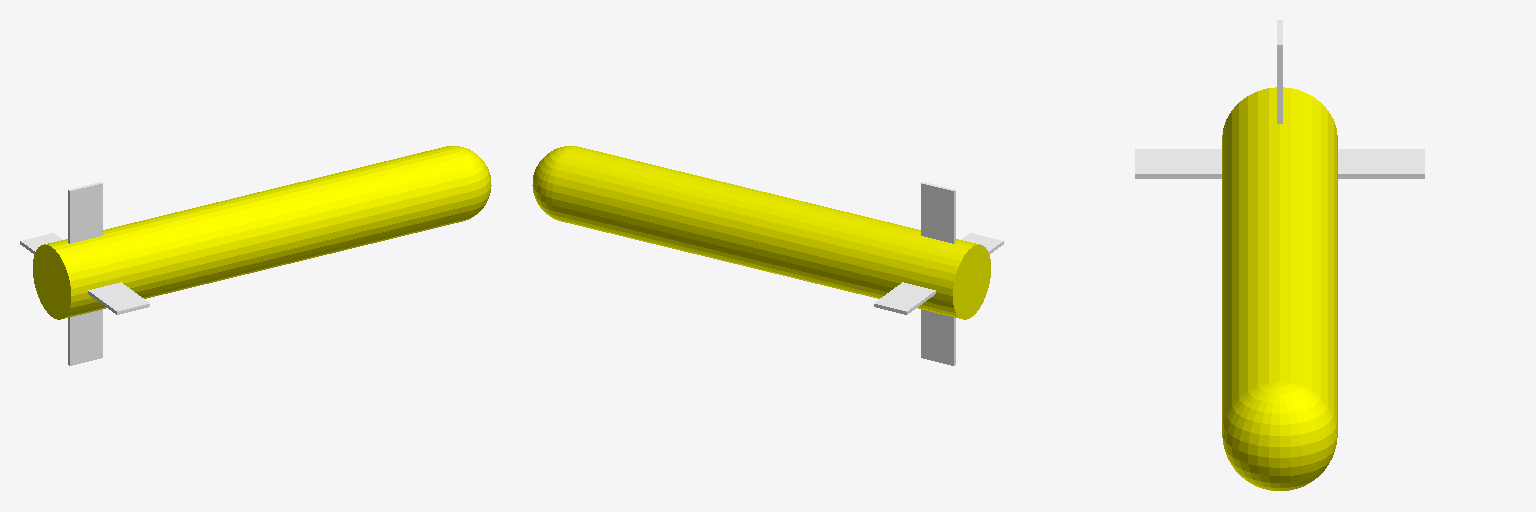
The robot description file, URDF, robot "remus100":
<?xml version="1.0"?>
<robot name="remus100">
  <link name="REMUS">
    <visual>
      <geometry>
        <cylinder length="1.2" radius="0.1"/>
      </geometry>
      <origin rpy="1.570796 0 1.570796" xyz="0 0 0"/>
      <material name="yellow">
        <color rgba="1 1 0 1"/>
      </material>
    </visual>
  </link>

  <link name="nose">
    <visual>
      <geometry>
        <sphere radius="0.1"/>
      </geometry>
      <origin rpy="0 0 0" xyz="0.6 0 0"/>
      <material name="yellow">
        <color rgba="1 1 0 1"/>
      </material>
    </visual>
  </link>
  
  <joint name="base_to_nose" type="fixed">
    <parent link="REMUS"/>
    <child link="nose"/>
    <origin xyz="0 0 0"/>
  </joint>
  
  <link name="right_wing">
    <visual>
      <geometry>
        <box size="0.1 .3 .01"/>
      </geometry>
      <origin rpy="0 0 0" xyz="-0.5 0.1 0"/>
      <material name="white">
        <color rgba="1 1 1 1"/>
      </material>     
    </visual>
  </link>

  <joint name="base_to_right_wing" type="fixed">
    <parent link="REMUS"/>
    <child link="right_wing"/>
    <origin xyz="0 0 0"/>
  </joint>

  <link name="left_wing">
    <visual>
      <geometry>
        <box size="0.1 .3 .01"/>
      </geometry>
      <origin rpy="0 0 0" xyz="-0.5 -0.1 0"/>
      <material name="white">
        <color rgba="1 1 1 1"/>
      </material>     
    </visual>
  </link>

  <joint name="base_to_left_wing" type="fixed">
    <parent link="REMUS"/>
    <child link="left_wing"/>
    <origin xyz="0 0 0"/>
  </joint>

<link name="upper_wing">
  <visual>
    <geometry>
      <box size="0.1 .01 .3 "/>
    </geometry>
    <origin rpy="0 0 0" xyz="-0.5 0 0.1"/>
    <material name="white">
      <color rgba="1 1 1 1"/>
    </material>
  </visual>
</link>

<joint name="base_to_upper_wing" type="fixed">
  <parent link="REMUS"/>
  <child link="upper_wing"/>
  <origin xyz="0 0 0"/>
</joint>

<link name="lower_wing">
  <visual>
    <geometry>
      <box size="0.1 .01 .3 "/>
    </geometry>
    <origin rpy="0 0 0" xyz="-0.5 0 -0.1"/>
    <material name="white">
      <color rgba="1 1 1 1"/>
    </material>
  </visual>
</link>

<joint name="base_to_lower_wing" type="fixed">
  <parent link="REMUS"/>
  <child link="lower_wing"/>
  <origin xyz="0 0 0"/>
</joint>
  
</robot>

--- Facts derived from the render (not from the file) ---
The picture shows the robot from 3 angles, left to right: view 1: azimuth 30°, elevation 25°; view 2: azimuth 150°, elevation 25°; view 3: azimuth 270°, elevation 25°; orthographic projection.
Robot: remus100 — 6 links, 5 joints (5 fixed); root link REMUS; default pose: every joint at zero.
Links seen in each view (by area): view 1: REMUS, upper_wing, lower_wing, nose, left_wing; view 2: REMUS, upper_wing, lower_wing, nose, right_wing; view 3: REMUS, nose, right_wing, left_wing, upper_wing.
Link boxes in pixels (x1=…): REMUS: x1=33, y1=147, x2=471, y2=319; upper_wing: x1=68, y1=182, x2=102, y2=243; lower_wing: x1=68, y1=309, x2=102, y2=365; nose: x1=446, y1=146, x2=491, y2=220; left_wing: x1=88, y1=282, x2=149, y2=314; REMUS: x1=552, y1=147, x2=990, y2=319; upper_wing: x1=921, y1=182, x2=955, y2=243; lower_wing: x1=921, y1=309, x2=955, y2=365; nose: x1=532, y1=146, x2=577, y2=220; right_wing: x1=874, y1=282, x2=935, y2=314; REMUS: x1=1222, y1=87, x2=1337, y2=428; nose: x1=1222, y1=381, x2=1337, y2=490; right_wing: x1=1338, y1=149, x2=1424, y2=178; left_wing: x1=1135, y1=149, x2=1221, y2=178; upper_wing: x1=1277, y1=20, x2=1282, y2=123.
Size in the robot's own frame: 1.3 by 0.5 by 0.5 metres.
Geometry: primitives only (box / cylinder / sphere), no mesh files.
